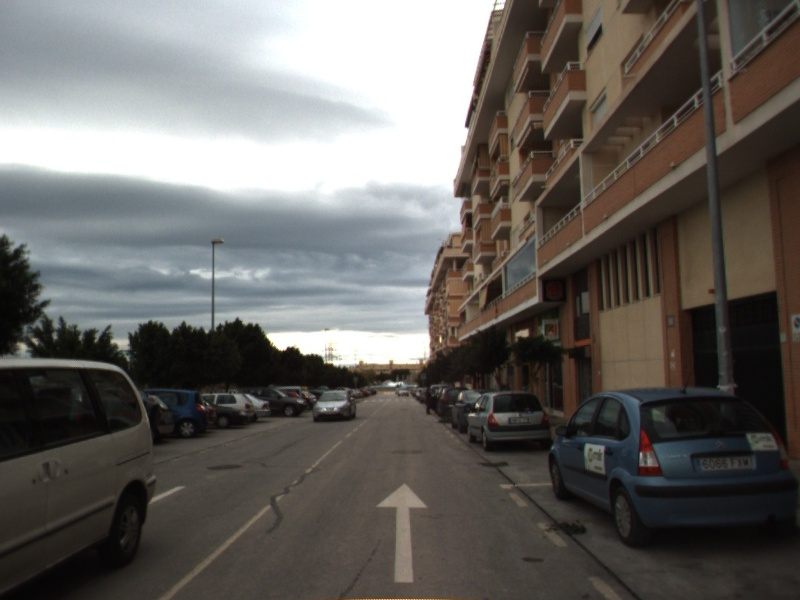STRAIGHT: (374, 481, 431, 584)
